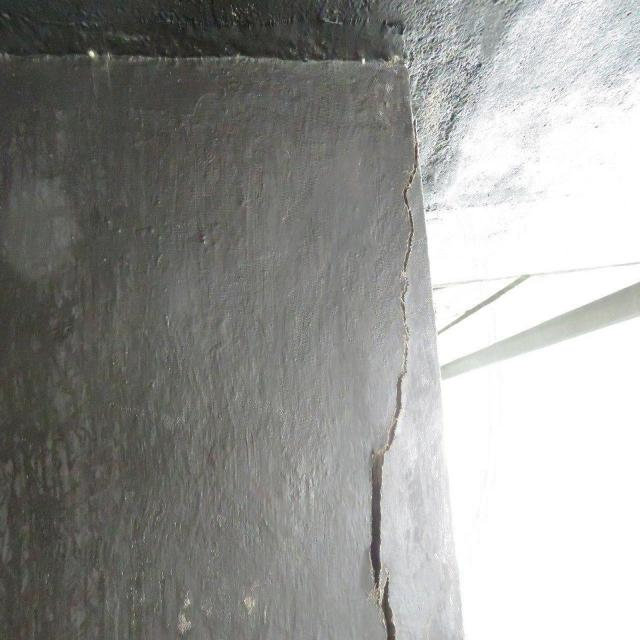vertical crack: (366, 123, 418, 640)
